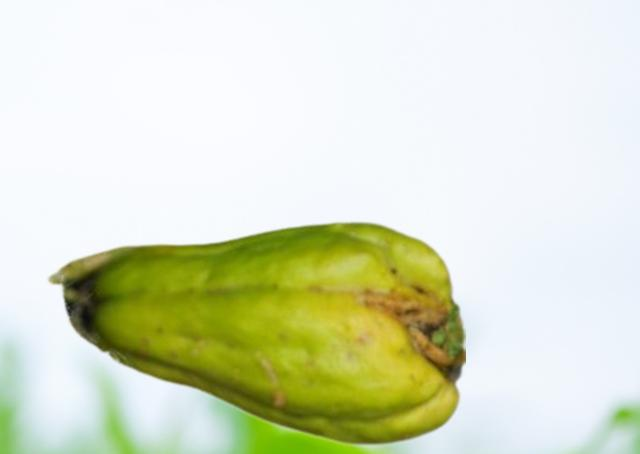sayote: (44, 219, 464, 447)
